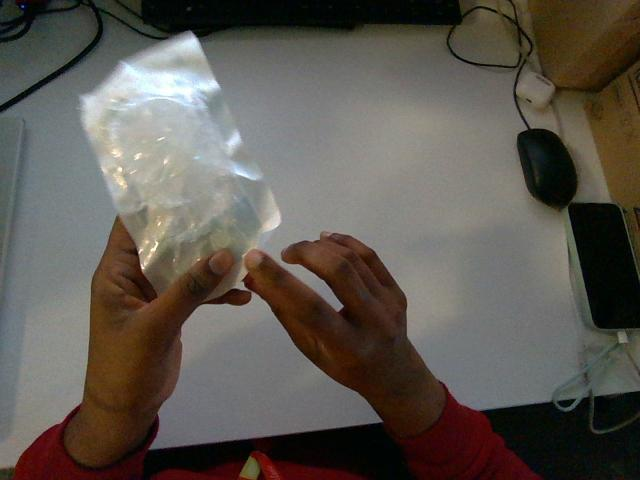gallipot: (82, 33, 280, 297)
